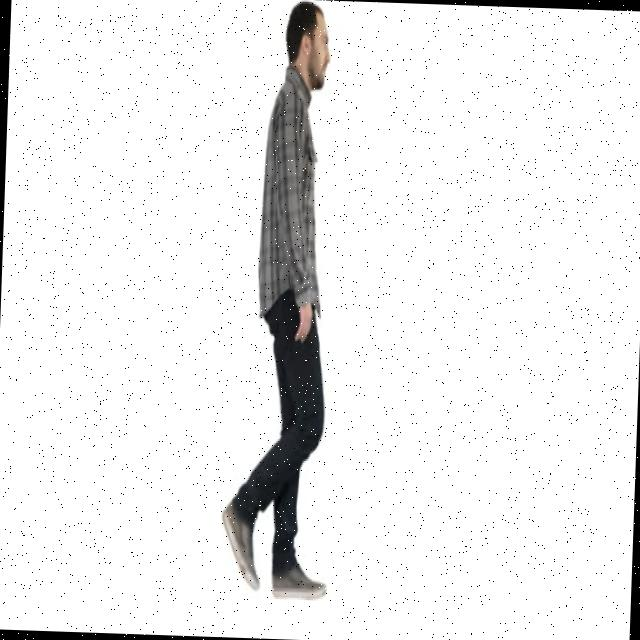Person: (219, 0, 347, 600)
